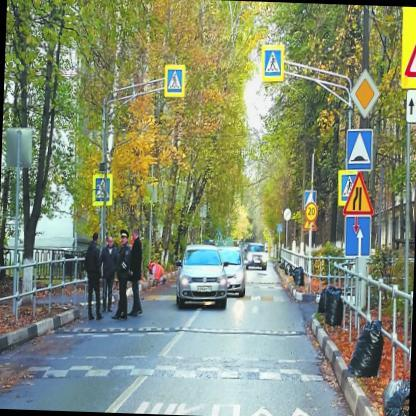obstructed_road_sign: (337, 170, 358, 206), (92, 174, 112, 205), (304, 190, 317, 206)
road_sign: (349, 69, 379, 119), (343, 171, 373, 216), (345, 129, 372, 169), (345, 217, 371, 255), (262, 45, 284, 81), (165, 65, 184, 96), (304, 202, 317, 222)
